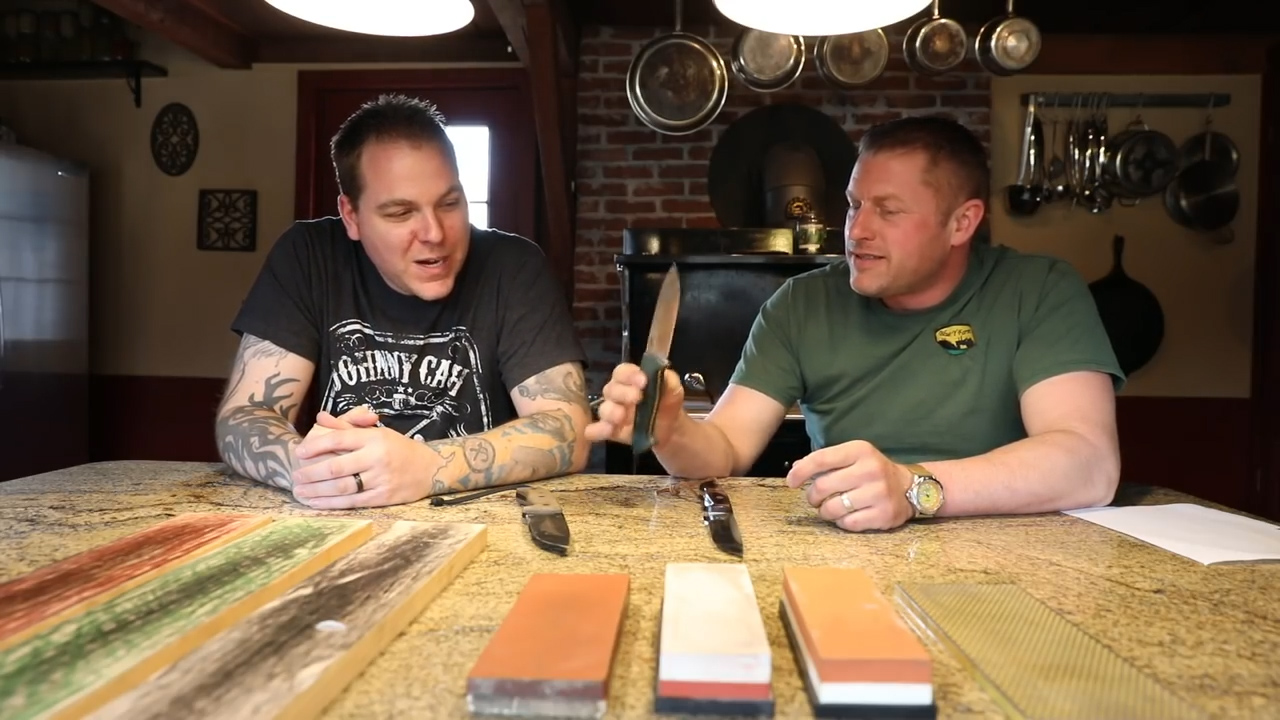knife: (588, 253, 699, 444)
